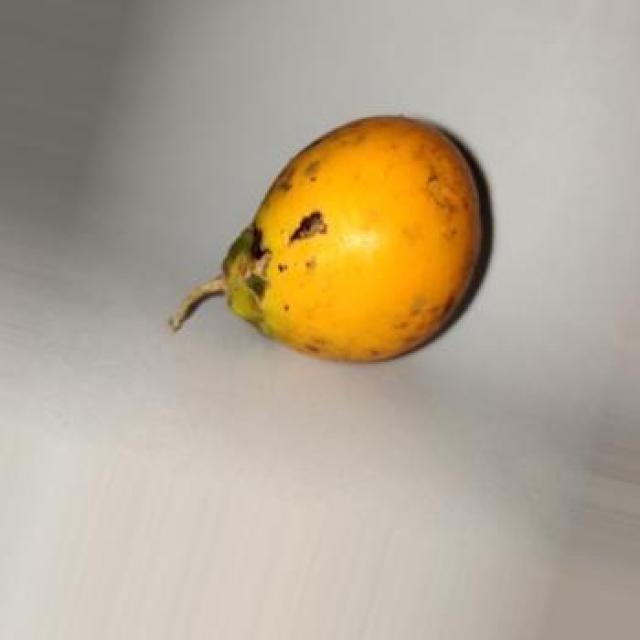good: (168, 117, 494, 366)
